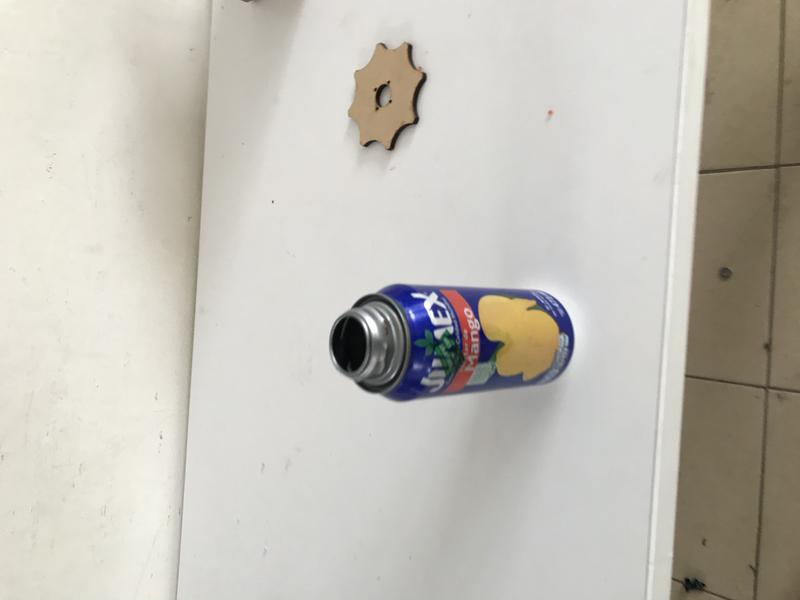jumex_botella: (327, 283, 575, 402)
